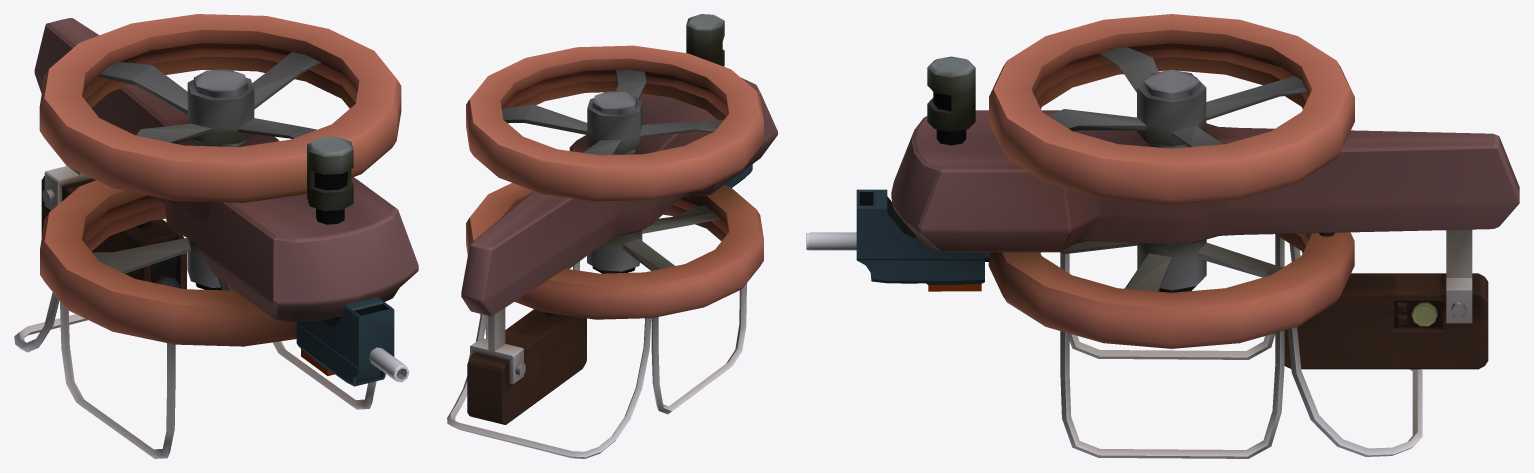
File: flying_gun_drone.FBX
3 renders of one model, left to right at view 1: azimuth 30°, elevation 25°; view 2: azimuth 150°, elevation 25°; view 3: azimuth 270°, elevation 25°, orthographic. The views are drawn at different scales.
Parts seen in each view (by area): view 1: body, top rotor, gun, motion sensor, camera armor, bottom rotor, camera; view 2: body, camera armor, top rotor, bottom rotor, motion sensor; view 3: body, camera armor, gun, top rotor, bottom rotor, motion sensor.
Boxes of the visible parts, <box> form: body: <box>14,14,418,458</box>; top rotor: <box>97,52,321,144</box>; gun: <box>296,297,409,386</box>; motion sensor: <box>307,136,353,224</box>; camera armor: <box>41,176,186,289</box>; bottom rotor: <box>92,238,234,290</box>; camera: <box>151,256,179,288</box>; body: <box>447,45,777,458</box>; camera armor: <box>467,309,586,424</box>; top rotor: <box>502,69,723,155</box>; bottom rotor: <box>566,205,720,271</box>; motion sensor: <box>686,14,724,66</box>; body: <box>891,14,1519,458</box>; camera armor: <box>1284,273,1488,369</box>; gun: <box>806,189,984,291</box>; top rotor: <box>1048,47,1307,147</box>; bottom rotor: <box>1060,239,1283,291</box>; motion sensor: <box>927,56,975,145</box>.
Bounding box in the file's own units: 0.3696 × 0.3876 × 0.7207.
